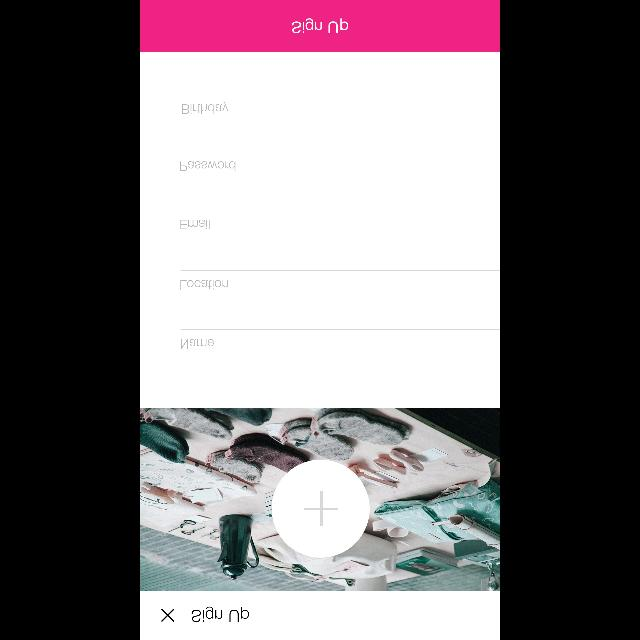icon: (272, 458, 370, 558), (161, 608, 175, 622)
image: (140, 408, 500, 590)
input: (180, 94, 500, 115), (180, 152, 500, 172), (180, 210, 500, 230), (180, 270, 500, 290), (180, 329, 500, 349)
text: (191, 606, 249, 622), (182, 102, 228, 115), (180, 161, 236, 171), (180, 279, 228, 289), (182, 339, 214, 349), (182, 219, 210, 229)
textbutton: (140, 1, 500, 52)
